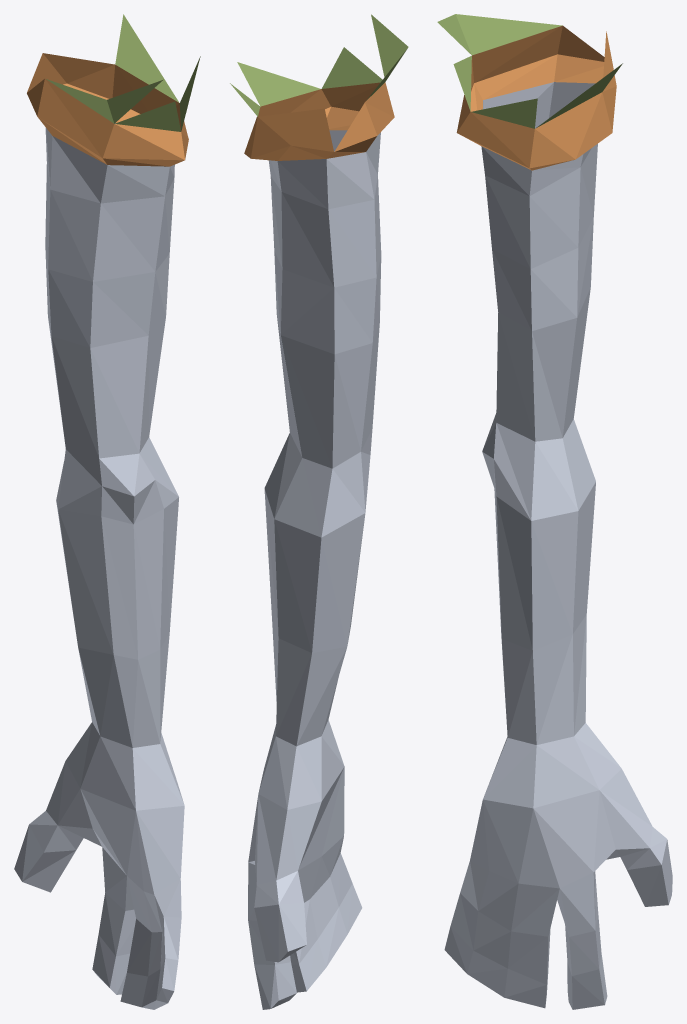
The model's file is ArmR.obj.
3 views of the same model, side by side, from view 1: azimuth 30°, elevation 25°; view 2: azimuth 150°, elevation 25°; view 3: azimuth 270°, elevation 25° (orthographic). The views are drawn at different scales.
Bounding box in the file's own units: 0.1419 × 0.8566 × 0.1878.
1 material, 1 textured.
